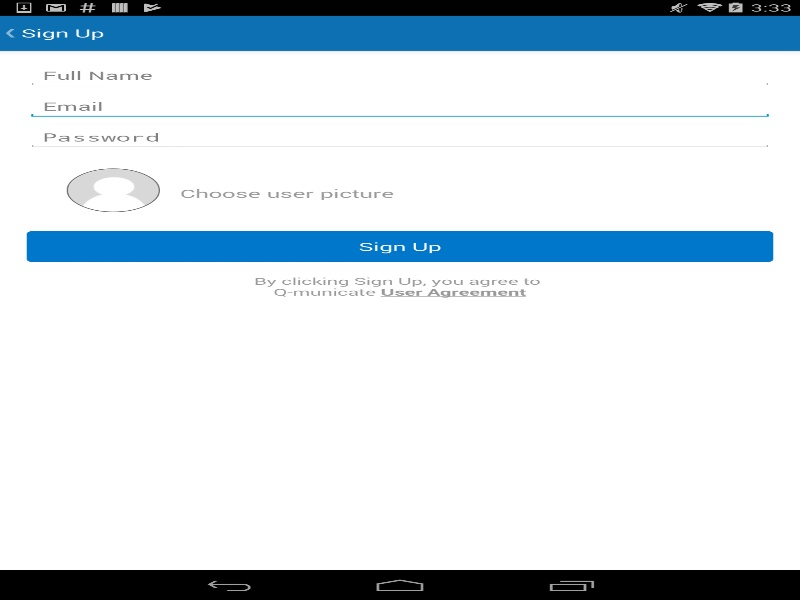Button: (26, 230, 773, 262)
Input: (26, 63, 773, 87), (26, 94, 773, 118), (26, 125, 773, 149)
